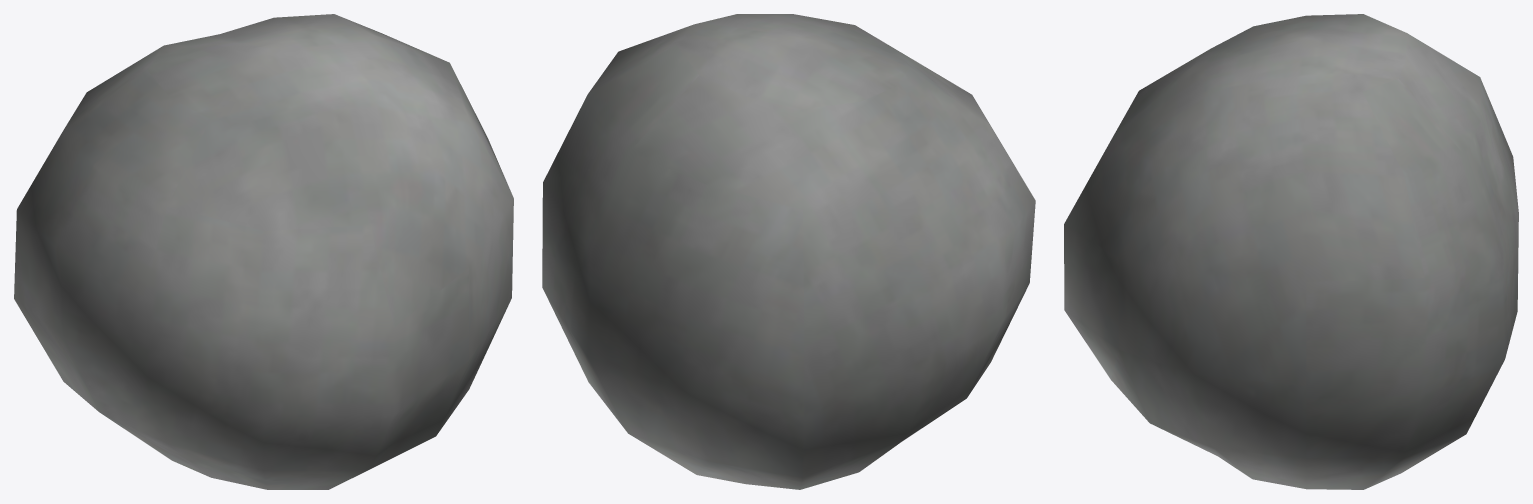
Rendered from pebble_01.glb.
3 renders of one model, left to right at view 1: azimuth 30°, elevation 25°; view 2: azimuth 150°, elevation 25°; view 3: azimuth 270°, elevation 25°, orthographic.
Visible parts, largest first — view 1: pebble_01; view 2: pebble_01; view 3: pebble_01.
Boxes of the visible parts, x1,y1,x2,y2 form: pebble_01: (14,14,513,489); pebble_01: (542,14,1035,489); pebble_01: (1064,14,1518,489).
Bounding box in the file's own units: 2.1 × 1.94 × 1.94.
1 material, 1 textured.
